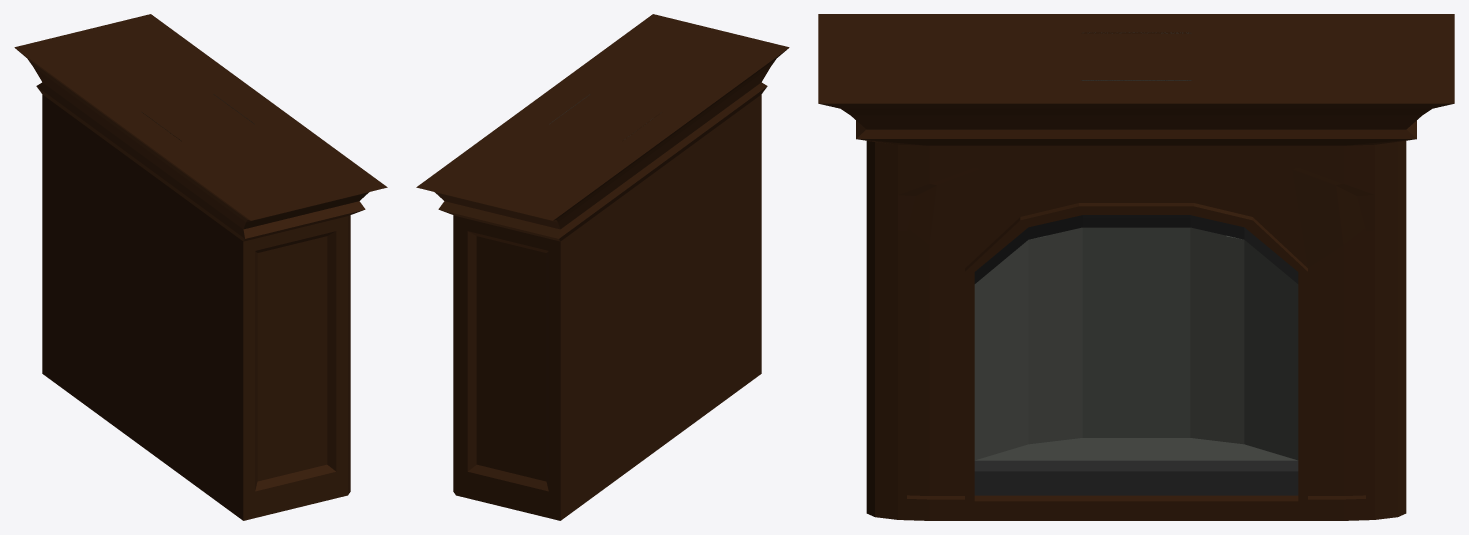
Rendered from Fireplace.fbx.
3 views of the same model, side by side, from view 1: azimuth 30°, elevation 25°; view 2: azimuth 150°, elevation 25°; view 3: azimuth 270°, elevation 25° (orthographic). The views are drawn at different scales.
Parts seen in each view (by area): view 1: Fireplace; view 2: Fireplace; view 3: Fireplace.
Part boxes in pixels (box(x1,y1,x2,y2)): Fireplace: box(14, 14, 387, 520); Fireplace: box(416, 14, 789, 520); Fireplace: box(818, 14, 1454, 520).
Bounding box in the file's own units: 118 × 260 × 354.
